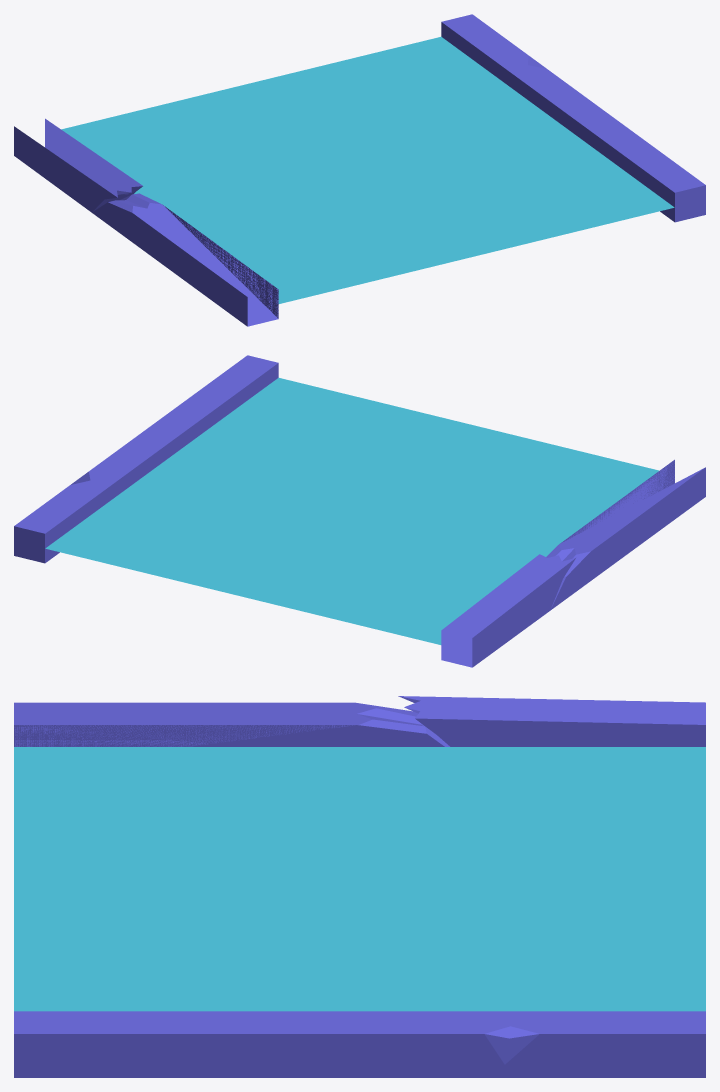
The model's file is path_walk_2.fbx.
3 views of the same model, one above another, from view 1: azimuth 30°, elevation 25°; view 2: azimuth 150°, elevation 25°; view 3: azimuth 270°, elevation 25° (orthographic). The views are drawn at different scales.
Visible parts, largest first — view 1: Path.001, Path Support, Path Support.001; view 2: Path.001, Path Support, Path Support.001; view 3: Path.001, Path Support.001, Path Support.
Boxes of the visible parts, x1,y1,x2,y2 form: Path.001: (61, 36, 674, 303); Path Support: (14, 118, 278, 326); Path Support.001: (441, 14, 705, 222); Path.001: (45, 377, 658, 644); Path Support: (441, 459, 705, 667); Path Support.001: (14, 355, 278, 563); Path.001: (14, 747, 705, 1011); Path Support.001: (14, 1011, 705, 1077); Path Support: (14, 696, 705, 746).
Size of the model in its own units: 484 by 34.36 by 427.
